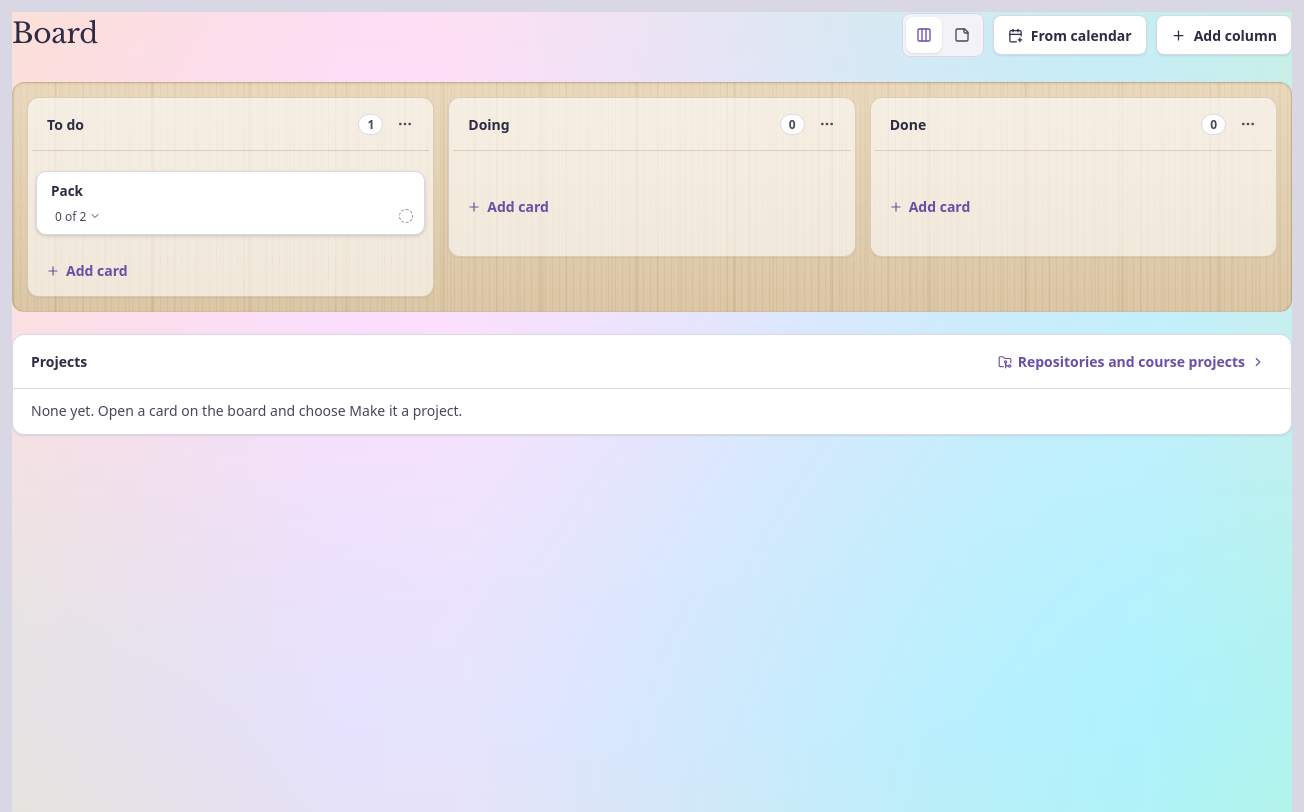
Test case: the kanban board › the checklist is collapsed to "0 of 2" and a toggled item is saved
Check: the field labelled "Socks" is not shown
What coordinates should you click on to do the following:
click the button named "Checklist, 0 of 2 done"
I would click on:
 (78, 216)
Its box is x1=51 y1=206 x2=105 y2=227.
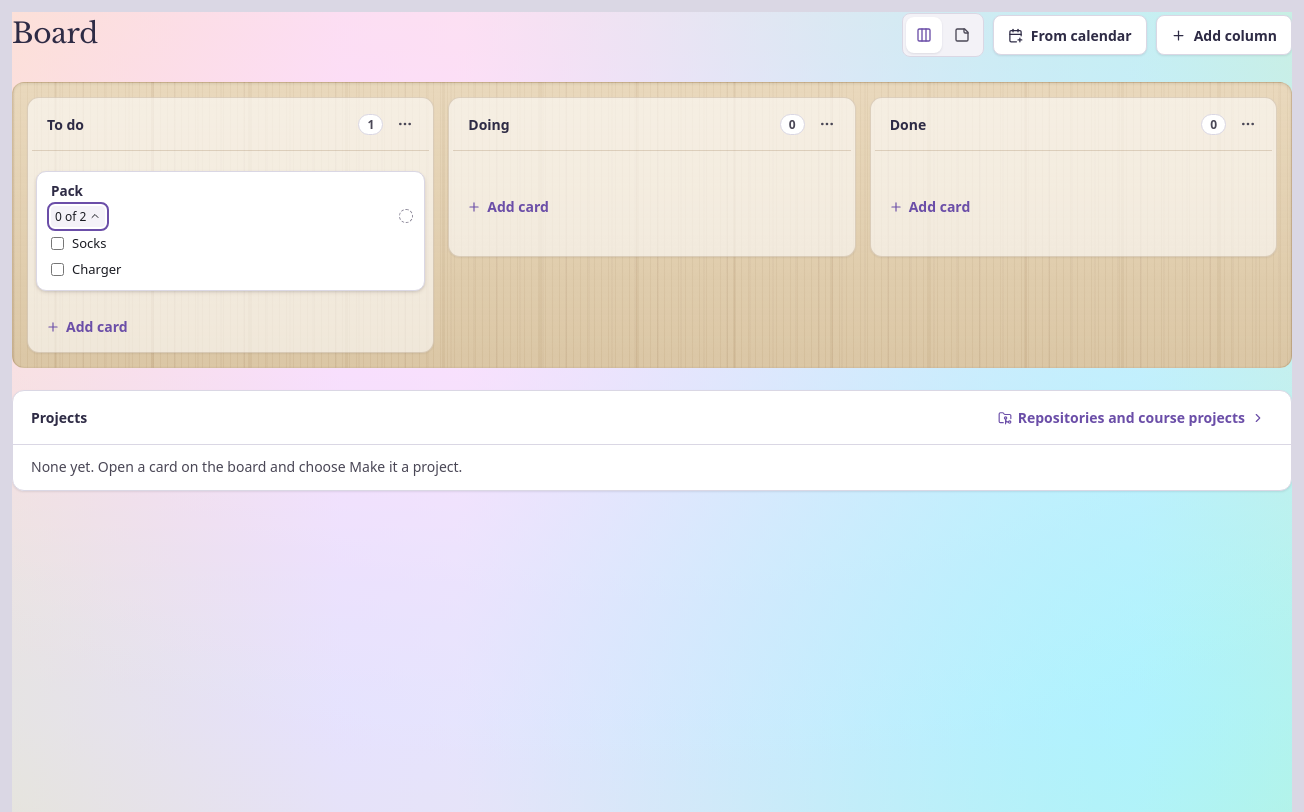
What coordinates should you click on to do the following:
click the checkbox labelled "Socks"
I would click on:
 (58, 243)
Its box is x1=51 y1=237 x2=64 y2=250.
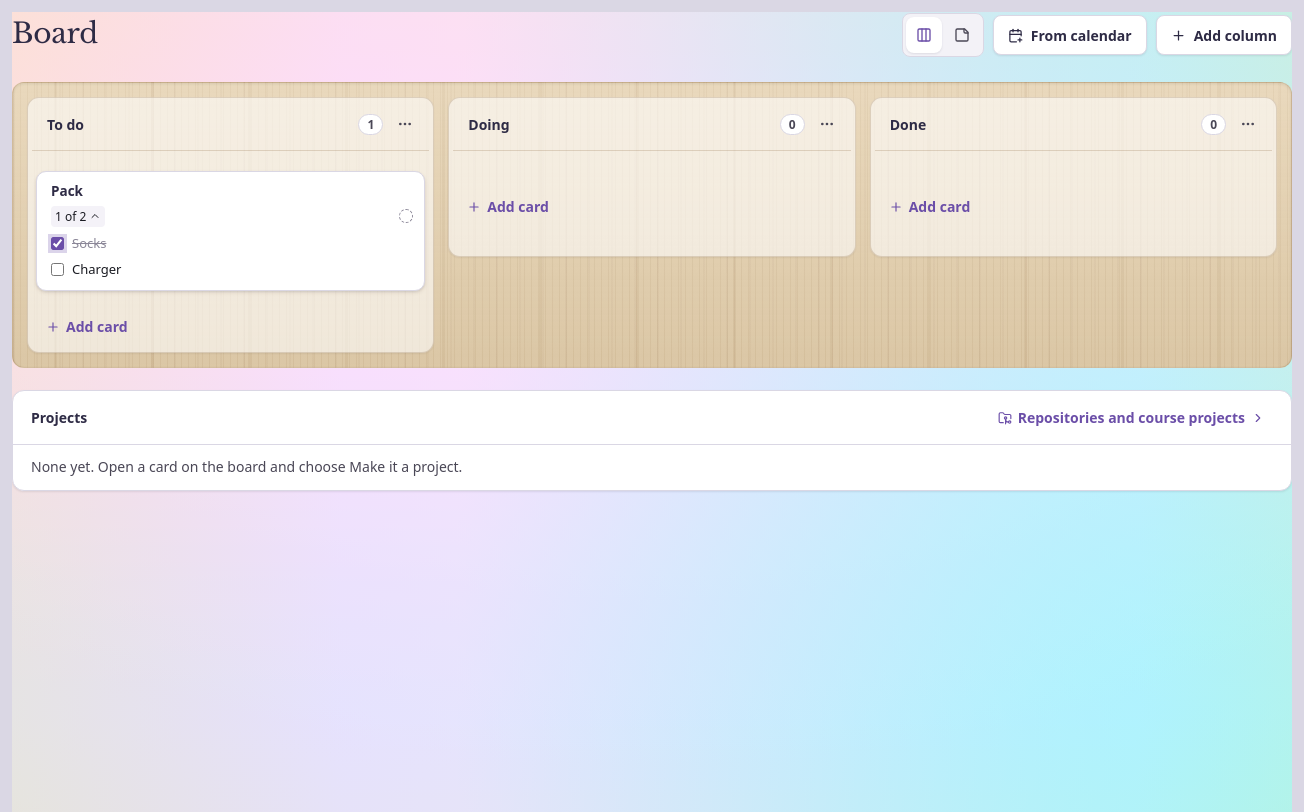
Check: the button named "Checklist, 1 of 2 done" is shown, box x1=51 y1=206 x2=105 y2=227
